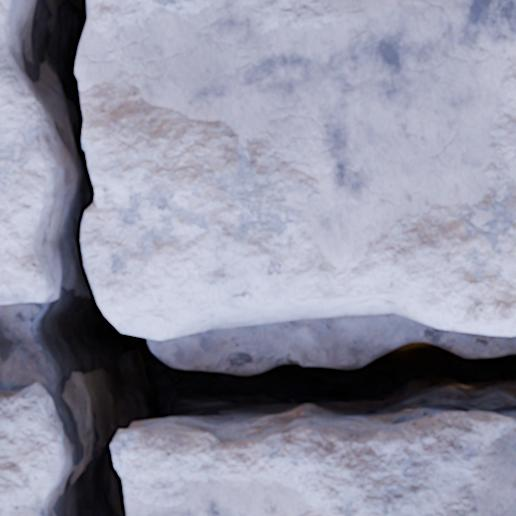broken_brick: (76, 0, 515, 340), (113, 412, 515, 515), (0, 0, 51, 304), (0, 380, 55, 515)
crack: (2, 0, 515, 515)
